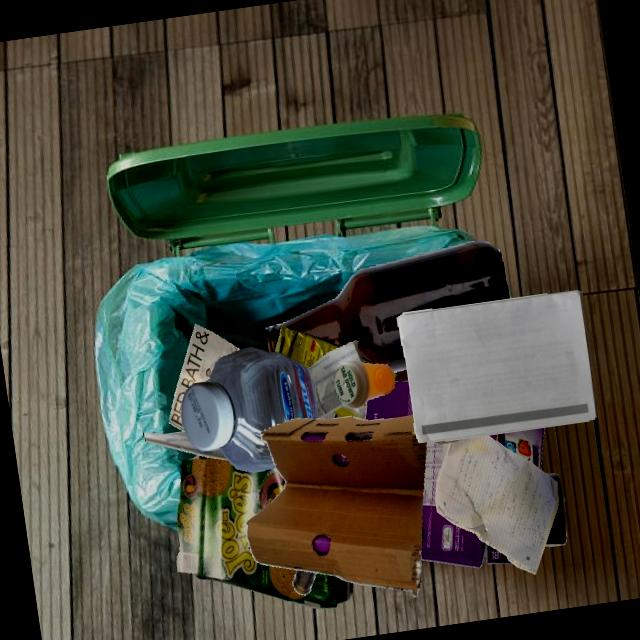cardboard: (246, 415, 427, 597), (177, 455, 353, 609), (410, 391, 510, 544), (421, 448, 482, 568), (393, 369, 409, 382)
glass: (266, 241, 510, 372), (293, 570, 316, 595)
paper: (397, 290, 596, 443), (435, 436, 559, 574), (169, 324, 241, 431), (307, 341, 363, 419), (143, 431, 227, 459)
plastic: (181, 347, 318, 472), (334, 358, 395, 408), (545, 473, 567, 546), (484, 546, 487, 557)
trash: (316, 349, 360, 408), (273, 325, 316, 369), (281, 325, 340, 349), (319, 402, 366, 419), (372, 364, 393, 372), (361, 359, 372, 364), (393, 372, 397, 382)
